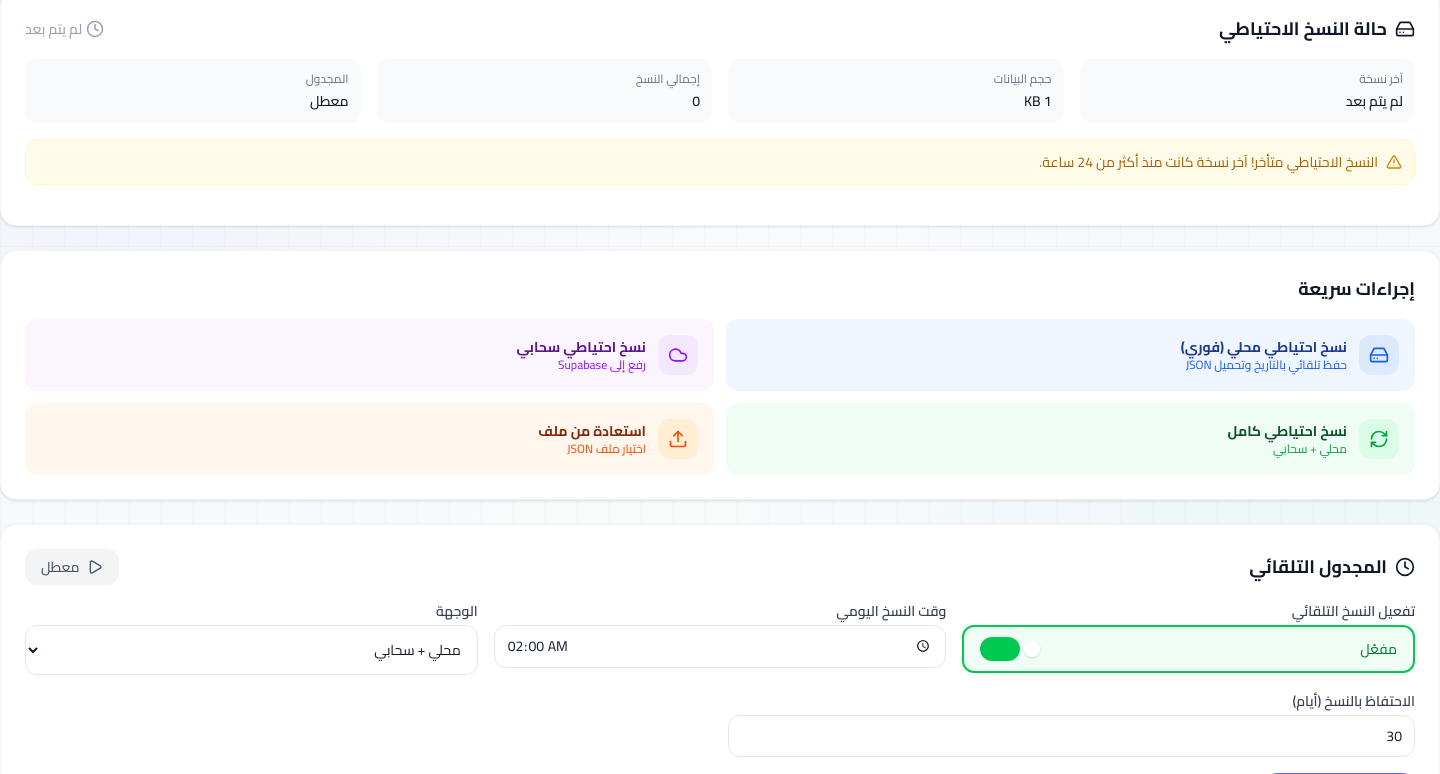
Test: backup manager controller and sections › updates failed-run history too, and lets the user clear it reactively
Click the button "نسخ احتياطي محلي (فوري) حفظ تلقائي بالتاريخ وتحميل JSON". click: coordinates (1379, 355)
box: x1=726 y1=319 x2=1415 y2=391
(page scrolled)
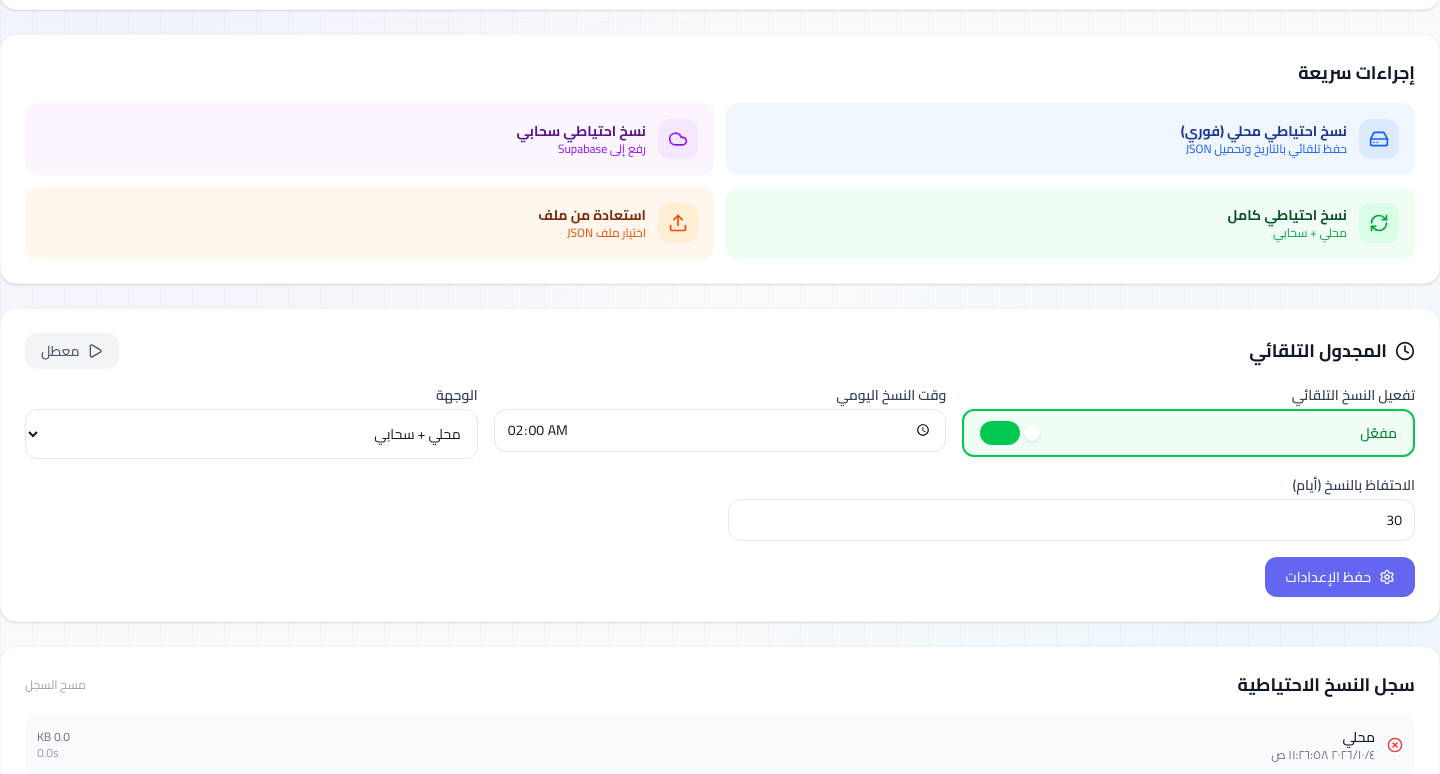
Click the button "مسح السجل". click: coordinates (55, 685)
box: x1=25 y1=677 x2=86 y2=693
(page scrolled)
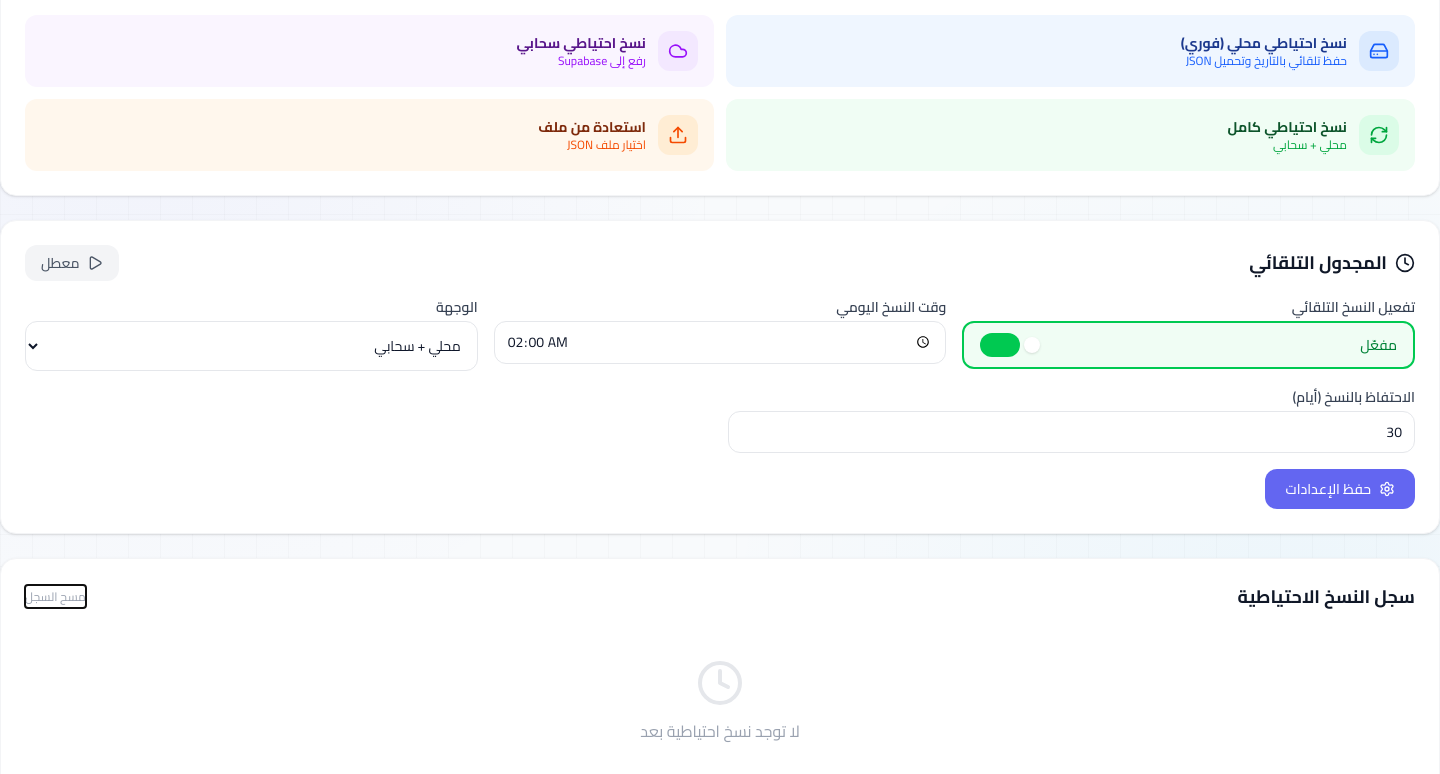
Expected: the text "لا توجد نسخ احتياطية بعد" is shown, x1=640 y1=716 x2=800 y2=746
